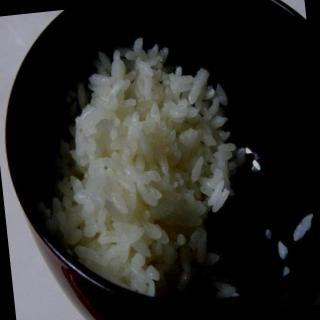Nasi: (19, 26, 262, 317)
